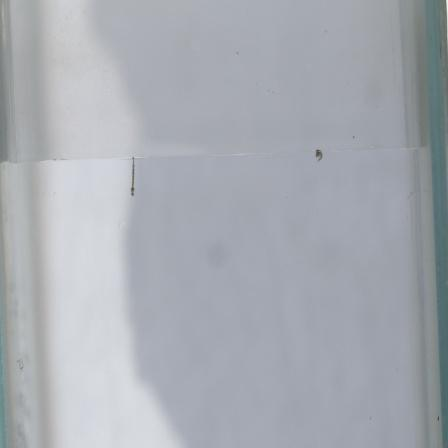Jentik-Nyamuk: (127, 154, 139, 200), (309, 145, 328, 166)
